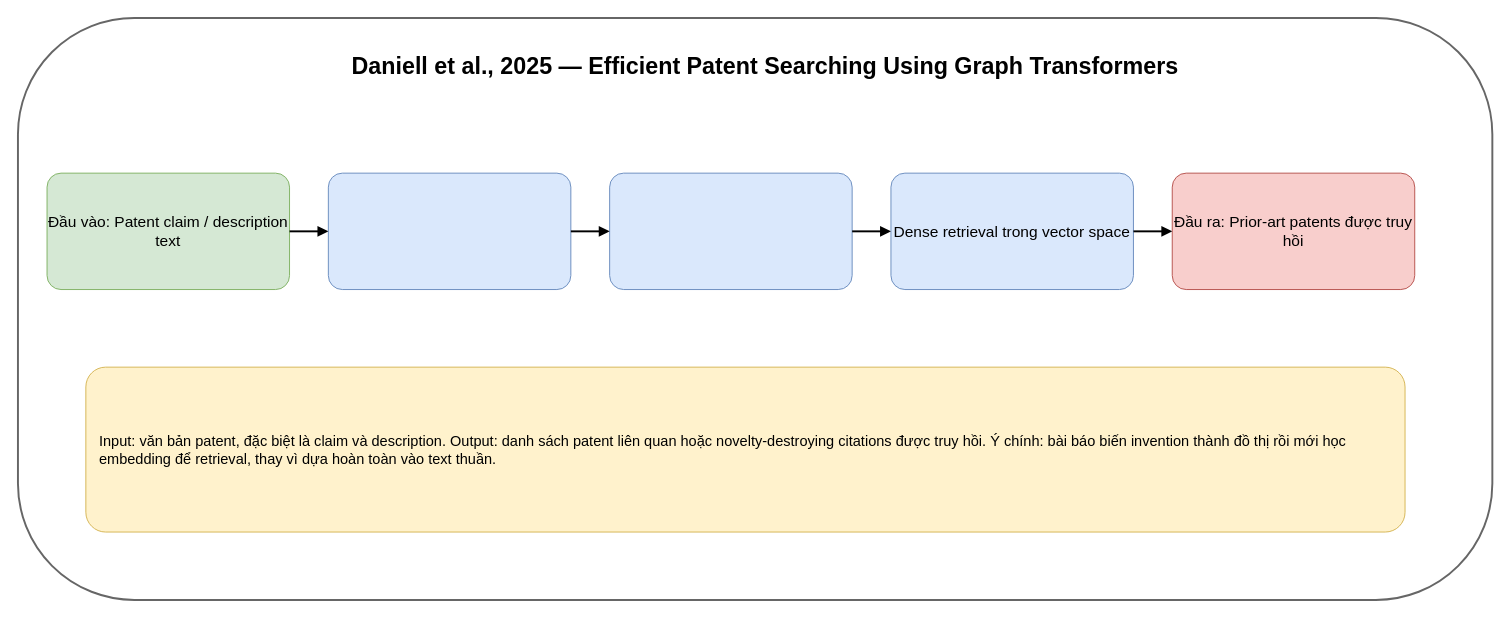
Some shapes in this 1509 by 617 pixel diagram are drawn without their labels. Here are the shapes that lost their labels. From the top down, the box of each, then its label:
(327, 172, 571, 290): Graph construction: trích feature và quan hệ thành graph
(609, 172, 852, 290): Graph Transformer mã hóa invention graph
